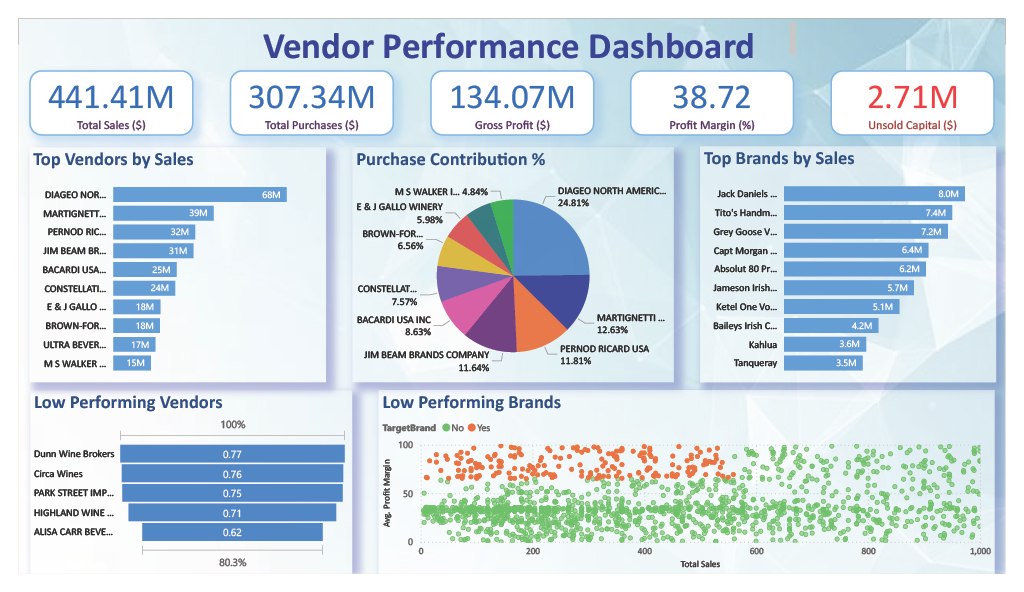

What the dashboard file says about the page in this screenshot:
{"tool":"powerbi","page":{"name":"Vendor Performance Dashboard","canvas":[1280,720],"ordinal":0},"visuals":[{"type":"card","fields":{"Values":["Sum(vendor_sales_summary.TotalSalesDollars)"]},"box":[14.3,66.5,213.1,85.9],"z":0},{"type":"textbox","box":[267.2,0,746,60.4],"z":1000},{"type":"card","fields":{"Values":["Sum(vendor_sales_summary.TotalPurchaseDollars)"]},"box":[274,66.5,213.1,85.9],"z":2000},{"type":"card","fields":{"Values":["Sum(vendor_sales_summary.UnsoldCapital)"]},"box":[1053,66.5,213.1,85.9],"z":3000},{"type":"card","fields":{"Values":["Avg(vendor_sales_summary.ProfitMargin)"]},"box":[793.3,66.5,213.1,85.9],"z":4000},{"type":"card","fields":{"Values":["Sum(vendor_sales_summary.GrossProfit)"]},"box":[533.6,66.5,213.1,85.9],"z":5000},{"type":"pieChart","title":"Purchase Contribution %","fields":{"Category":["PurchaseContribution.VendorName"],"Y":["Sum(PurchaseContribution.PurchaseContribution%)"]},"box":[433.5,167,416.7,305.4],"z":6000},{"type":"clusteredBarChart","title":"Top Vendors by Sales","fields":{"Category":["vendor_sales_summary.VendorName"],"Y":["Sum(vendor_sales_summary.TotalSalesDollars)"]},"box":[14.3,167,384.9,305.4],"z":7000},{"type":"clusteredBarChart","title":"Top Brands by Sales","fields":{"Y":["Sum(vendor_sales_summary.TotalSalesDollars)"],"Category":["vendor_sales_summary.Description"]},"box":[884.4,166.3,383.6,306.1],"z":8000},{"type":"funnel","title":"Low Performing Vendors","fields":{"Category":["LowTurnoverVendor.VendorName"],"Y":["Sum(LowTurnoverVendor.AvgStockTurnover)"]},"box":[15,482,418,238],"z":9000},{"type":"scatterChart","title":"Low Performing Brands","fields":{"Category":["BrandPerformance.Description"],"X":["Sum(BrandPerformance.TotalSales)"],"Series":["BrandPerformance.TargetBrand"],"Y":["Sum(BrandPerformance.AvgProfitMargins)"]},"box":[466.8,481.9,799.4,238.1],"z":10000}]}

Visuals, with their boxes in screenshot pixels (x1, y1, x2, y2), scaled from the page's 1280x720 canvas onto the 1024x592 screenshot:
card - Sum(vendor_sales_summary.TotalSalesDollars): (11, 55, 182, 125)
textbox: (214, 0, 811, 50)
card - Sum(vendor_sales_summary.TotalPurchaseDollars): (219, 55, 390, 125)
card - Sum(vendor_sales_summary.UnsoldCapital): (842, 55, 1013, 125)
card - Avg(vendor_sales_summary.ProfitMargin): (635, 55, 805, 125)
card - Sum(vendor_sales_summary.GrossProfit): (427, 55, 597, 125)
"Purchase Contribution %" pieChart: (347, 137, 680, 388)
"Top Vendors by Sales" clusteredBarChart: (11, 137, 319, 388)
"Top Brands by Sales" clusteredBarChart: (708, 137, 1014, 388)
"Low Performing Vendors" funnel: (12, 396, 346, 591)
"Low Performing Brands" scatterChart: (373, 396, 1013, 591)
